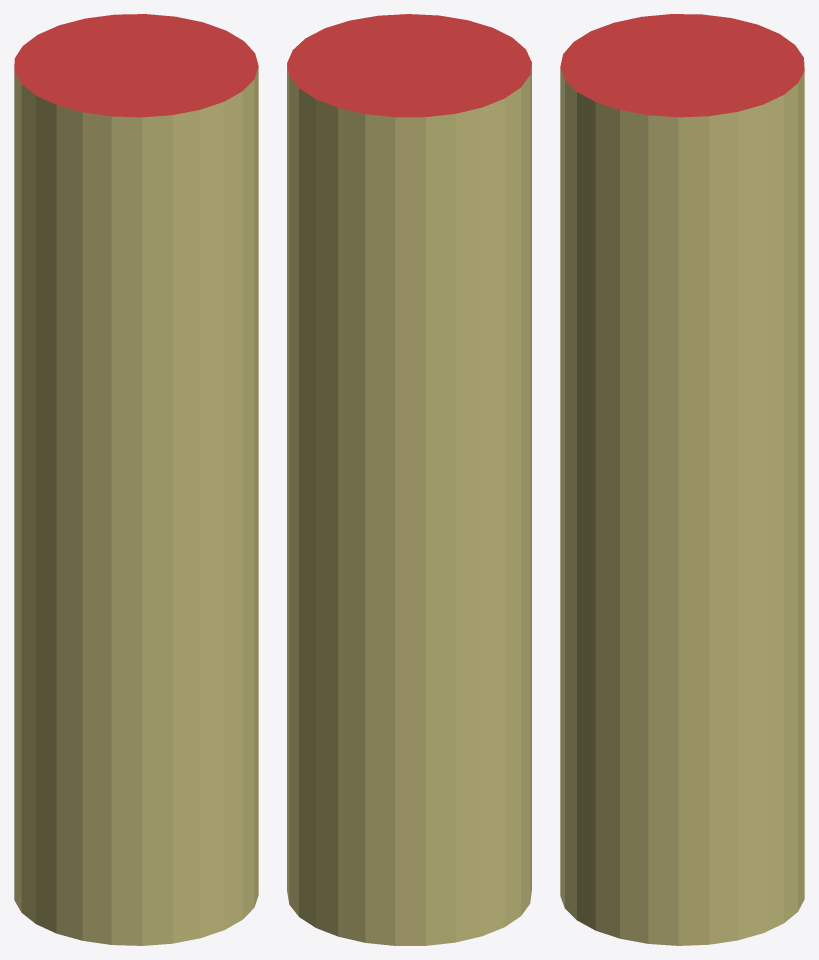
The picture shows the model from 3 angles, left to right: view 1: azimuth 30°, elevation 25°; view 2: azimuth 150°, elevation 25°; view 3: azimuth 270°, elevation 25°; orthographic projection.
Bounding box in the file's own units: 2.78 × 2.77 × 10.38.
